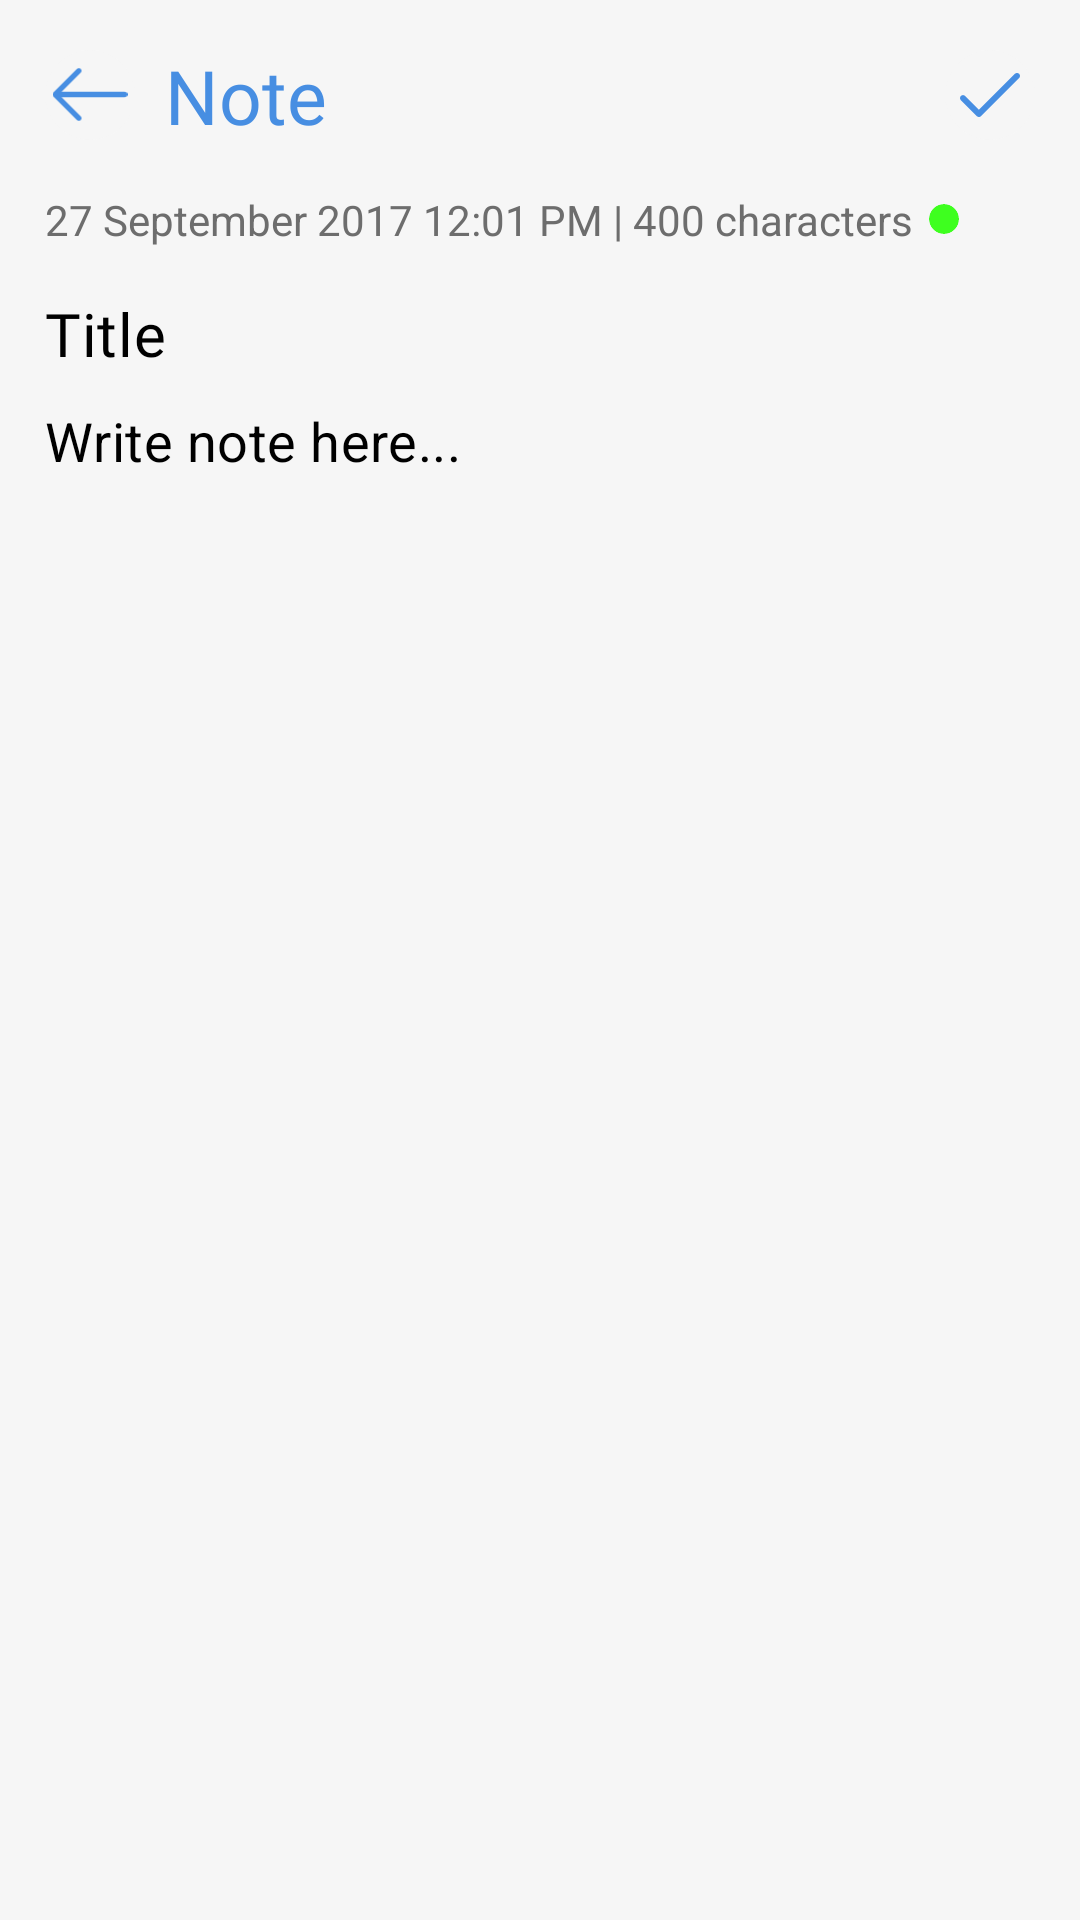

Icon bounding boxes for this 1080*1920 phone screenshot, format detection(x1, y1, x2, y2):
back: detection(53, 68, 128, 121)
done: detection(960, 73, 1020, 117)
